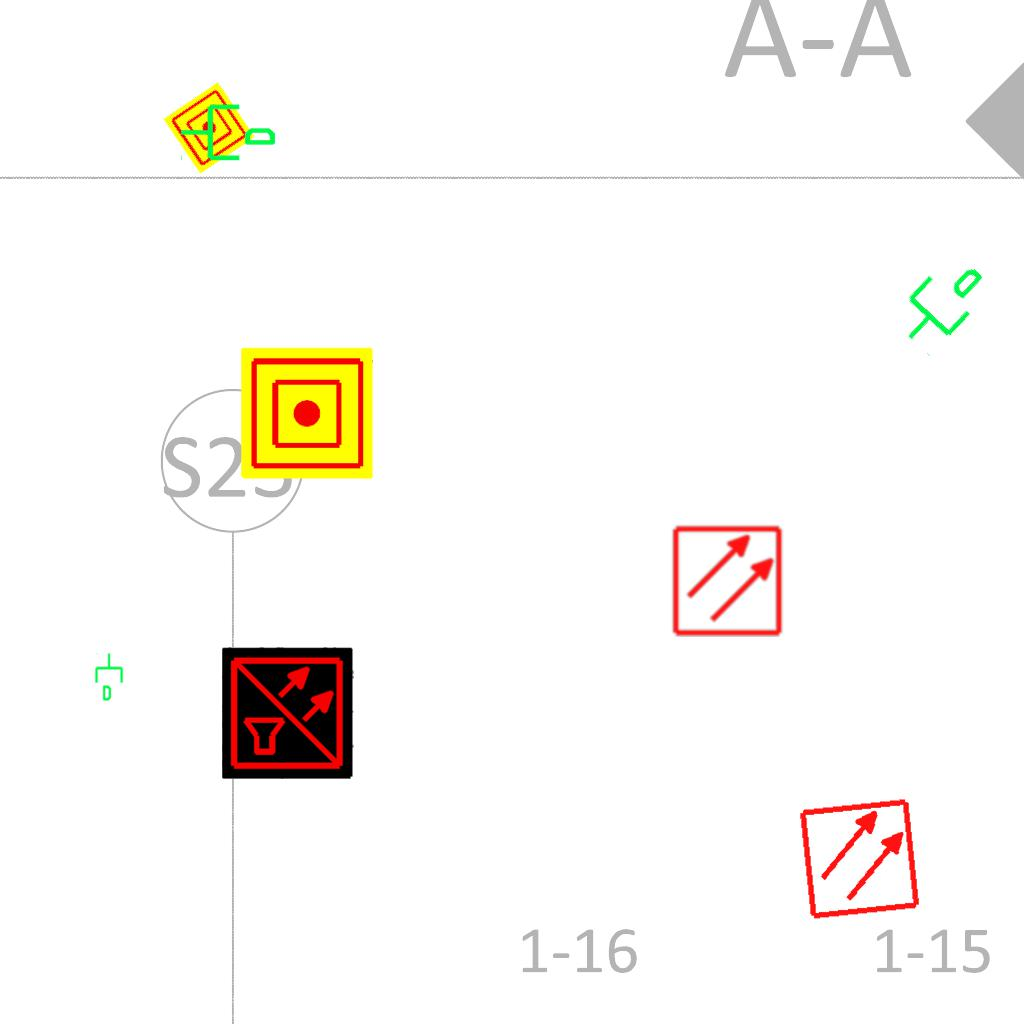Datenanschluss_einfach: (881, 241, 1000, 363), (178, 96, 278, 165), (93, 652, 127, 702)
NAM-Nichtautomatischer_Melder: (241, 347, 373, 479), (163, 82, 255, 174)
OKW_Multisensormelder_(Kombination_optischer_Rauch-Kahlenmonoxid_Waerme-Melder): (222, 647, 354, 779)
RMO_Rauchmelder_optischer: (797, 796, 922, 921), (671, 524, 784, 637)
